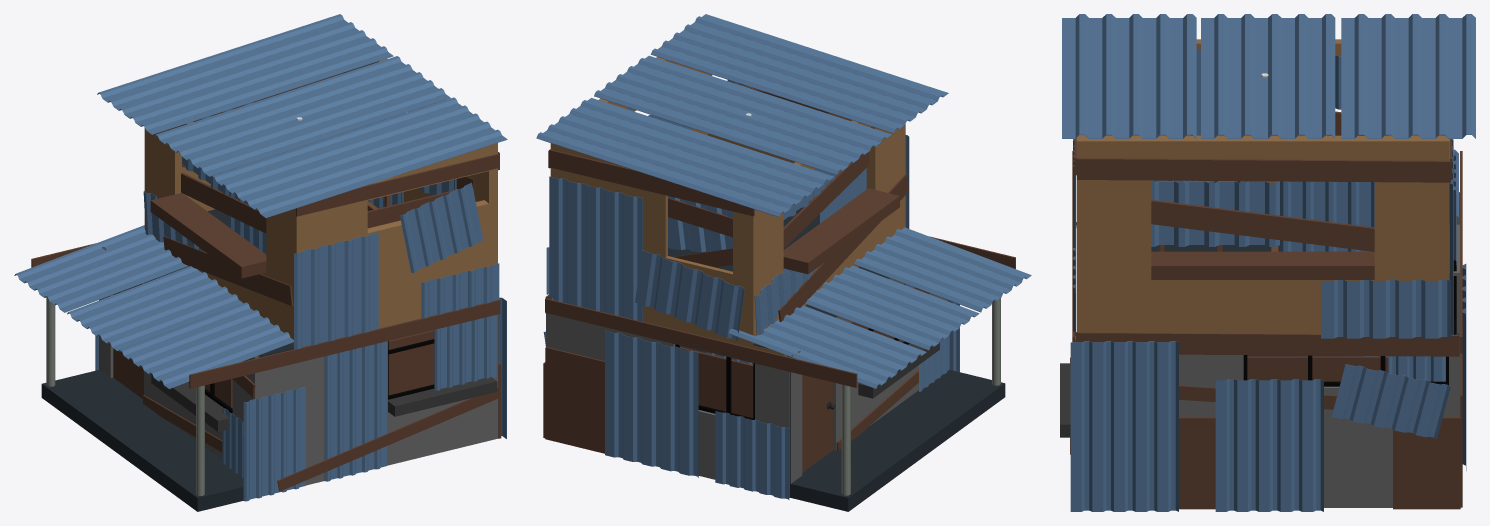
File: House1.fbx
3 views of the same model, side by side, from view 1: azimuth 30°, elevation 25°; view 2: azimuth 150°, elevation 25°; view 3: azimuth 270°, elevation 25° (orthographic). The views are drawn at different scales.
Parts seen in each view (by area): view 1: House1_Roof, House1_Base_Wood, House1_Floor_Main, House1_Floor_Floor, House1_Base_Main, House1_Base_Ledge, House1_Base_Bar, Door, House1_Base_Frame; view 2: House1_Roof, House1_Base_Wood, House1_Floor_Main, House1_Floor_Floor, House1_Base_Main, Door, House1_Base_Bar, House1_Base_Ledge, House1_Base_Frame; view 3: House1_Roof, House1_Base_Wood, House1_Floor_Main, House1_Base_Main, House1_Floor_Floor, House1_Base_Frame, House1_Base_Ledge.
Part boxes in pixels (x1,y1,x2,y2): House1_Roof: [14, 14, 507, 501]; House1_Base_Wood: [31, 73, 501, 491]; House1_Floor_Main: [144, 58, 497, 345]; House1_Floor_Floor: [41, 209, 368, 511]; House1_Base_Main: [99, 278, 498, 485]; House1_Base_Ledge: [151, 373, 497, 431]; House1_Base_Bar: [46, 297, 204, 495]; Door: [113, 287, 143, 398]; House1_Base_Frame: [188, 339, 434, 412]; House1_Roof: [536, 14, 1031, 499]; House1_Base_Wood: [543, 83, 1015, 453]; House1_Floor_Main: [550, 57, 905, 356]; House1_Floor_Floor: [668, 201, 1005, 511]; House1_Base_Main: [546, 278, 947, 497]; Door: [802, 375, 835, 472]; House1_Base_Bar: [841, 298, 1000, 495]; House1_Base_Ledge: [858, 342, 939, 398]; House1_Base_Frame: [675, 284, 909, 419]; House1_Roof: [1062, 14, 1475, 511]; House1_Base_Wood: [1070, 111, 1462, 509]; House1_Floor_Main: [1076, 39, 1449, 334]; House1_Base_Main: [1179, 192, 1460, 507]; House1_Floor_Floor: [1151, 245, 1362, 356]; House1_Base_Frame: [1243, 260, 1456, 386]; House1_Base_Ledge: [1060, 363, 1070, 437].
Size of the model in its own units: 717 by 612 by 614.
